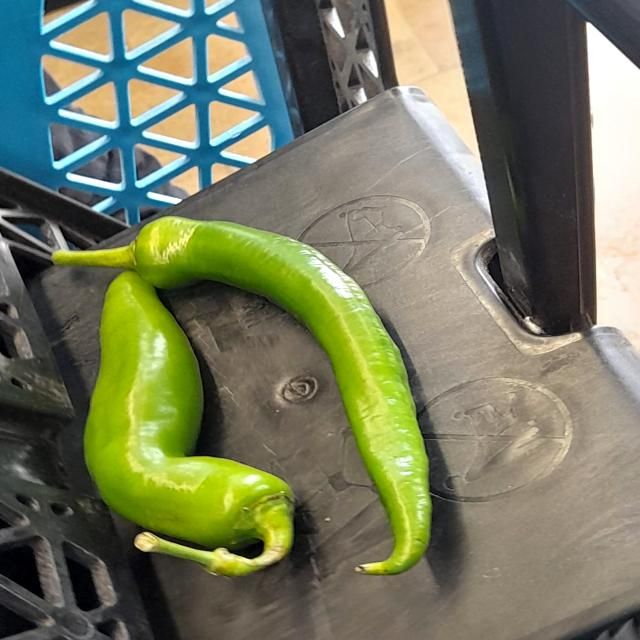green pepper: (132, 218, 438, 578), (75, 275, 300, 588)
